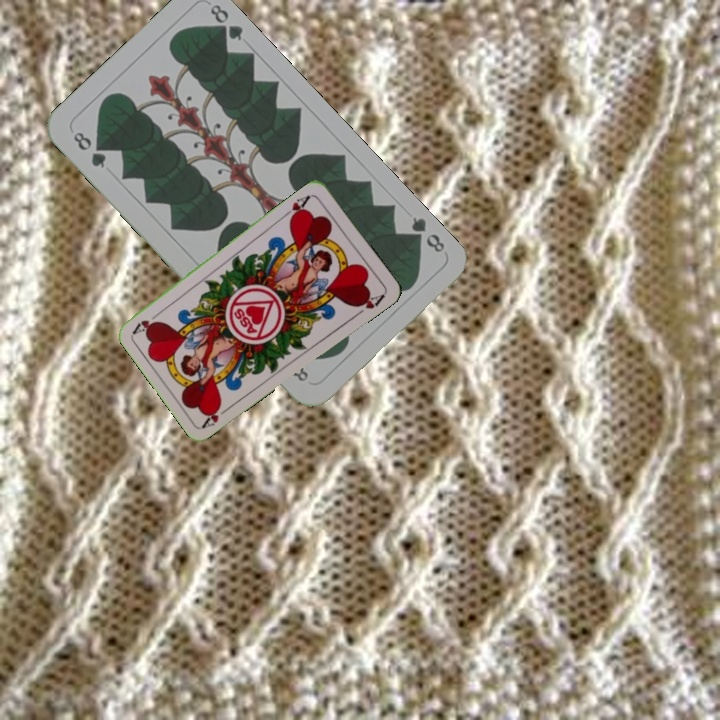G8: (403, 212, 448, 256), (69, 127, 109, 171)
HA: (279, 191, 315, 224), (199, 400, 235, 430)
